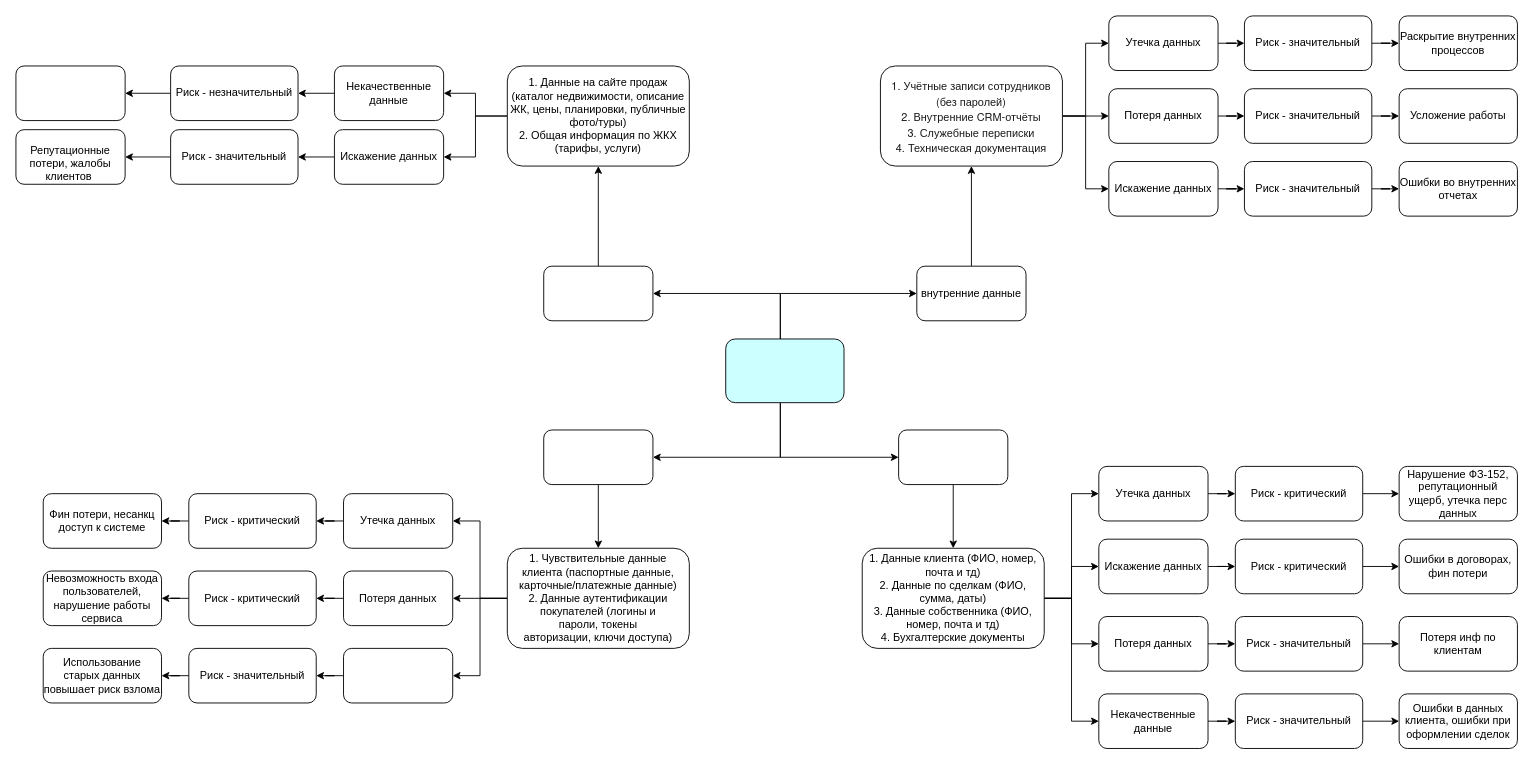
Some shapes in this 1533 by 764 pixel diagram are drawn without their labels. The centre of each missing label's shape, as x and y in pixels:
"Безопасность данных" belongs at (784,370).
"Влияет на продажи, устаревшая информация снижает доверие" belongs at (70,93).
"конфиденциальные данные" belongs at (953,457).
"Обесценивание данных" belongs at (398,675).
"публичные данные" belongs at (598,293).
"секретные данные" belongs at (598,457).
